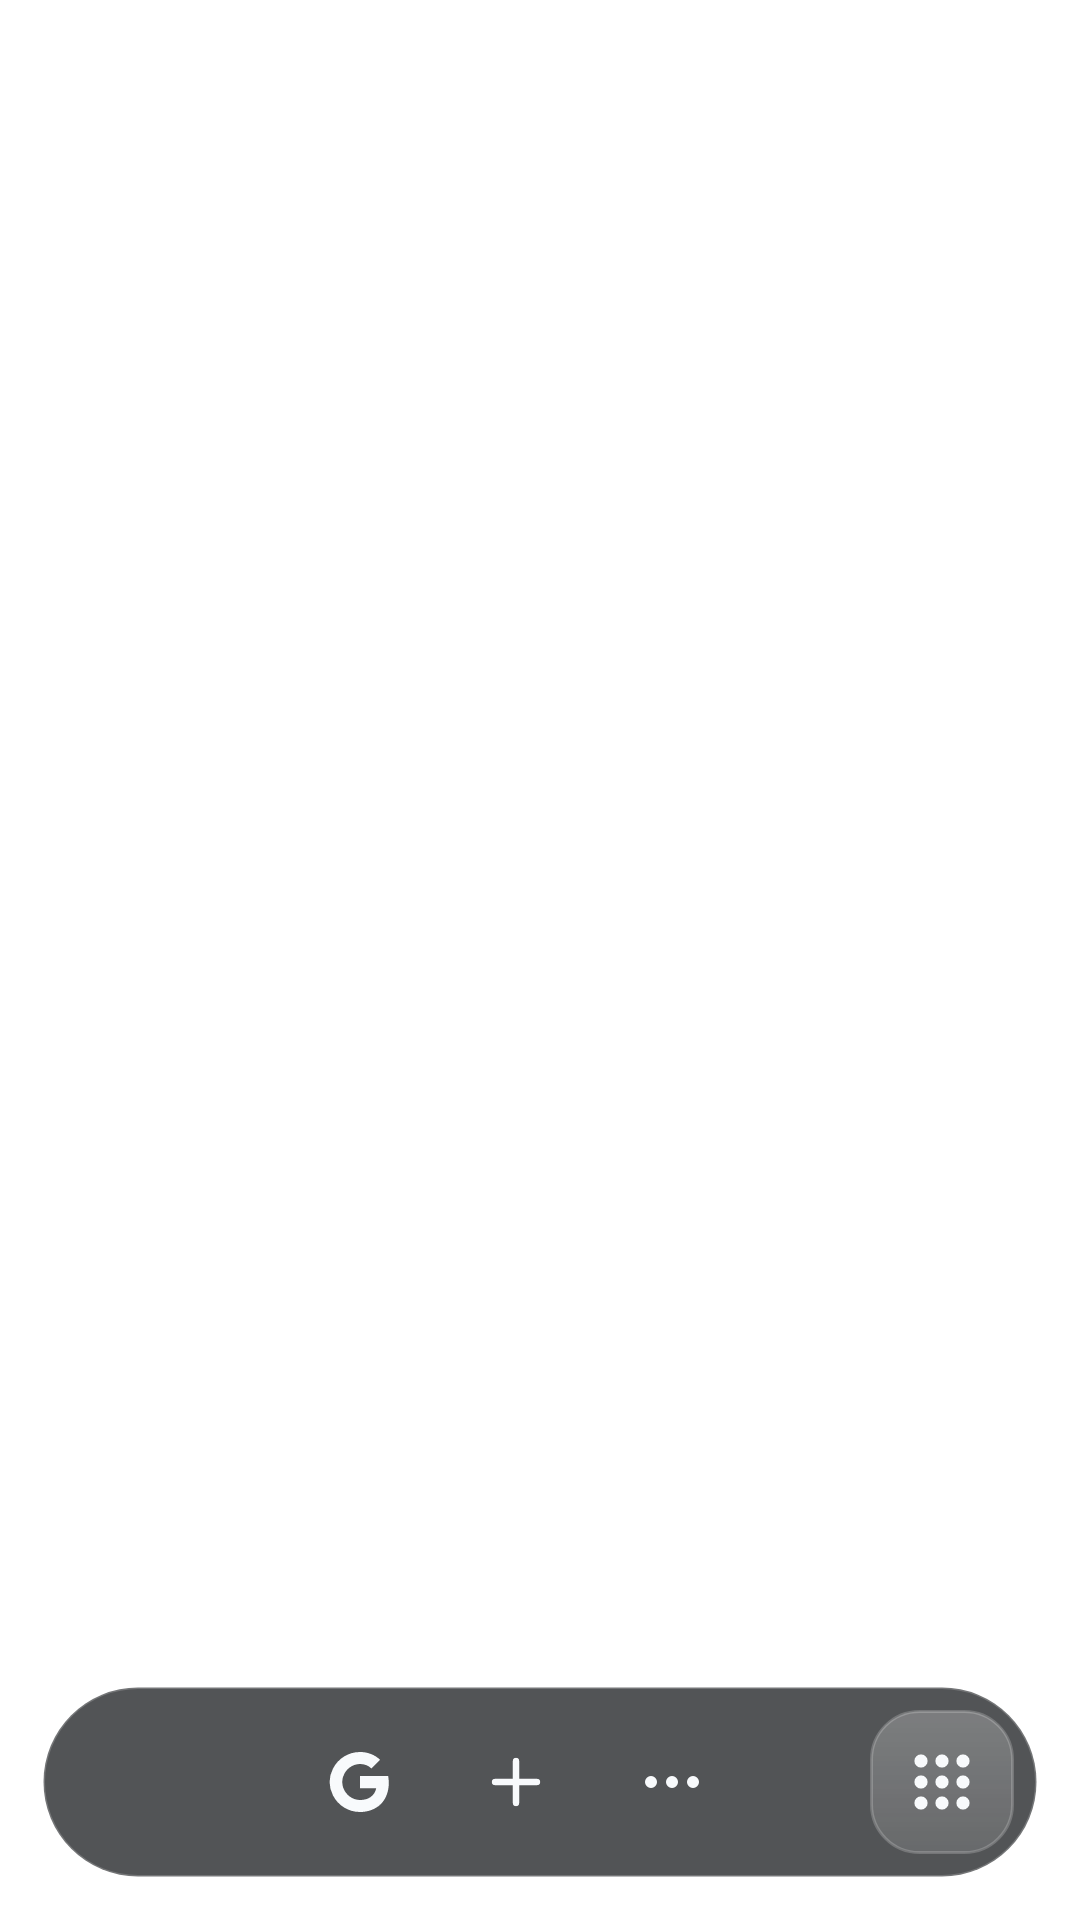

Icons on this 1080*1920 Android screen, each with its box as (x1=x1, y1=y1, x2=x2, y2=y2):
Add to home: (x1=492, y1=1758, x2=540, y2=1806)
All apps: (x1=870, y1=1710, x2=1014, y2=1854)
More controls: (x1=645, y1=1776, x2=699, y2=1788)
